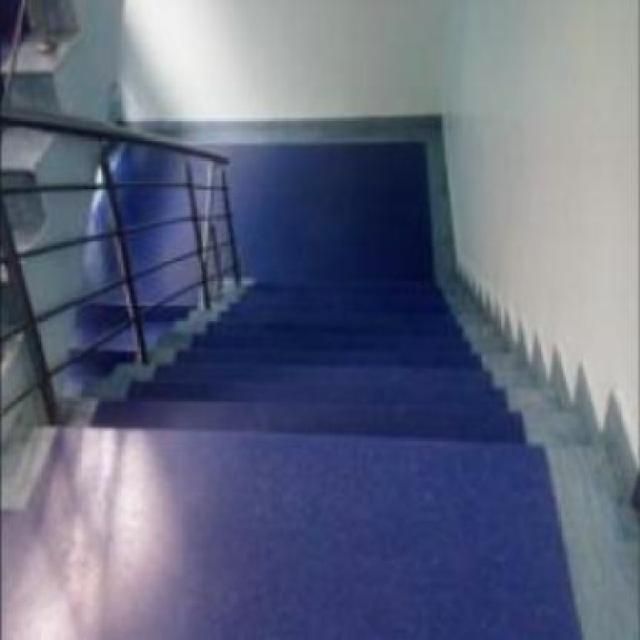stair: (52, 268, 597, 472)
